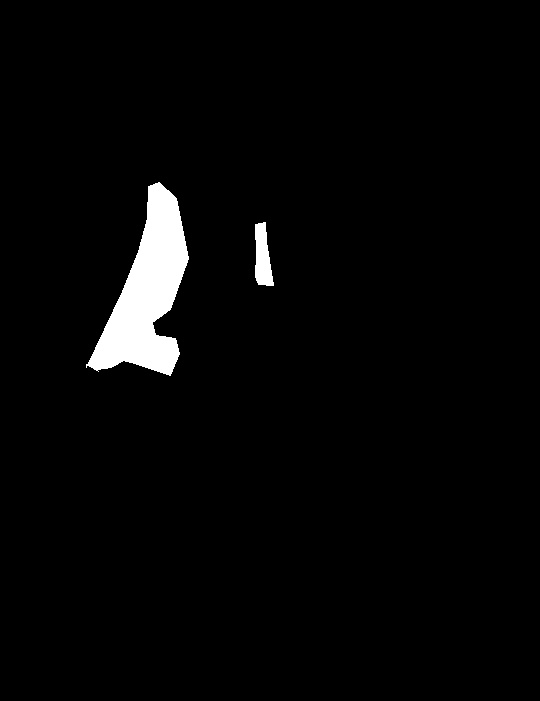Fire: (88, 150, 174, 363)
